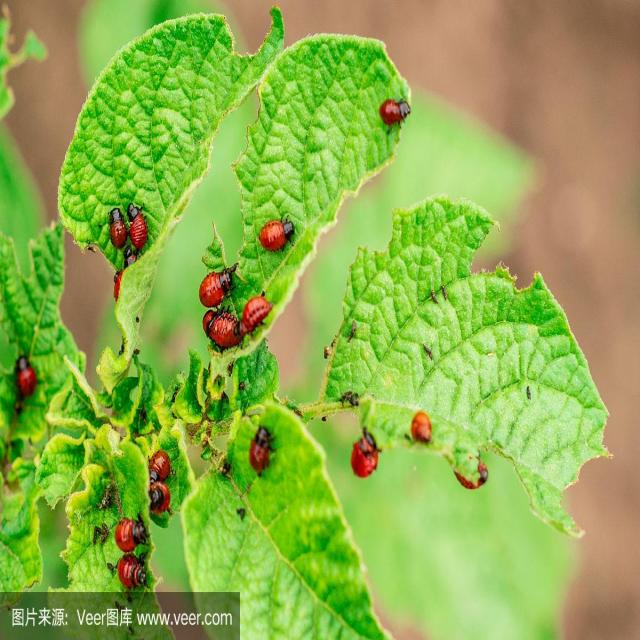ShuCaiHuaBanChong-Larva-: (239, 411, 288, 484), (193, 298, 243, 359), (352, 421, 382, 482), (123, 200, 156, 254), (257, 212, 295, 257), (110, 558, 158, 592), (138, 483, 183, 519), (378, 102, 422, 134), (236, 299, 274, 335), (199, 264, 235, 300), (110, 516, 153, 546), (402, 403, 429, 445), (146, 444, 176, 480), (110, 200, 126, 250)
